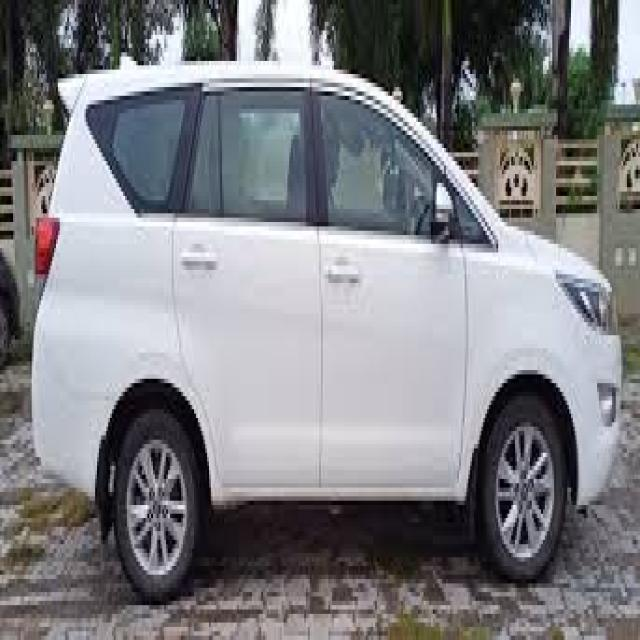light_vehicle: (32, 61, 622, 606)
